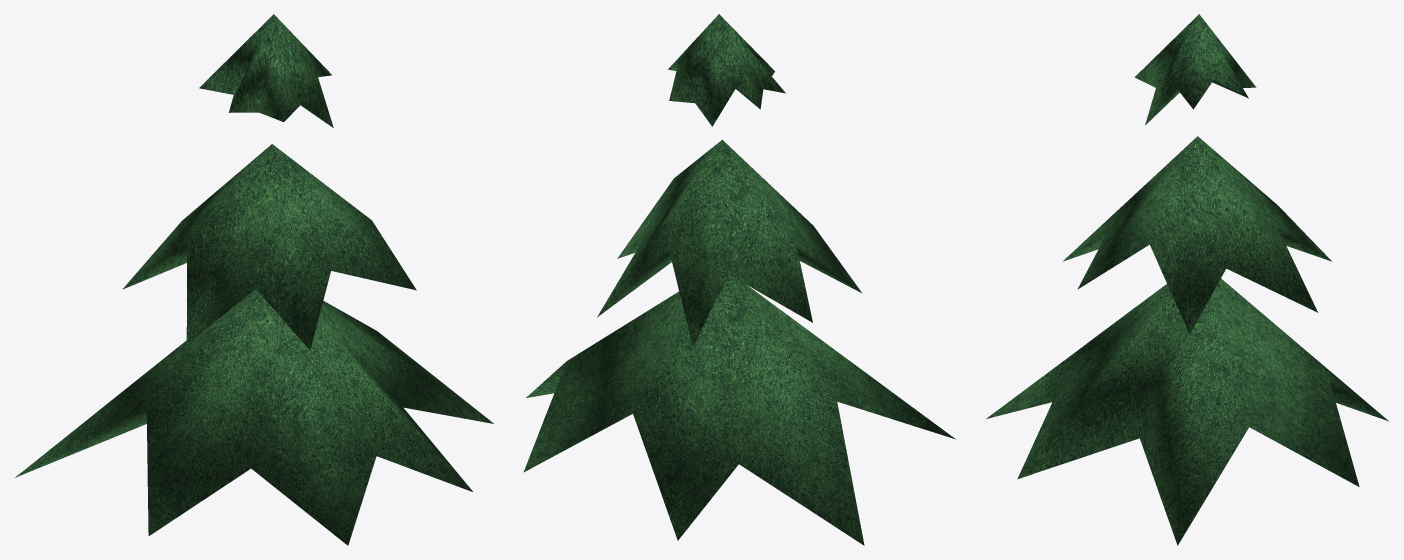
The model's file is bush_2.glb.
3 views of the same model, side by side, from view 1: azimuth 30°, elevation 25°; view 2: azimuth 150°, elevation 25°; view 3: azimuth 270°, elevation 25° (orthographic). The views are drawn at different scales.
Visible parts, largest first — view 1: bush_2; view 2: bush_2; view 3: bush_2.
Boxes of the visible parts, bbox=[...] form: bush_2: bbox=[15, 14, 493, 545]; bush_2: bbox=[523, 14, 955, 545]; bush_2: bbox=[986, 14, 1388, 545].
Bounding box in the file's own units: 1.18 × 1.24 × 1.04.
1 material, 1 textured.
